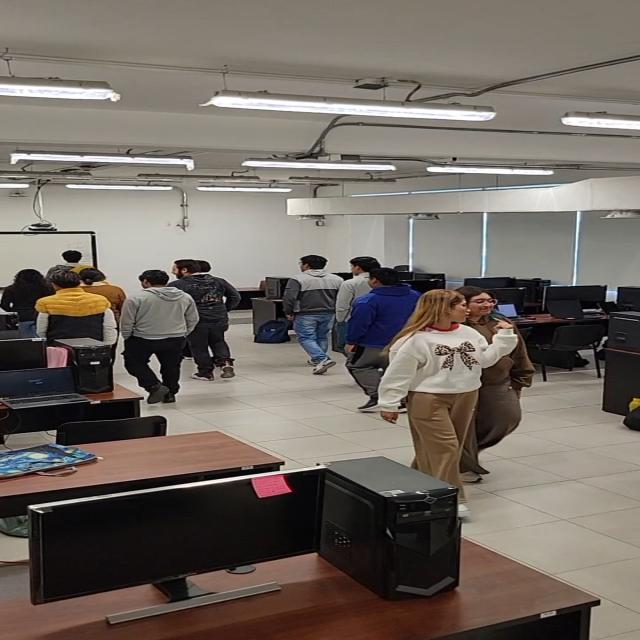Persona: (378, 288, 521, 516), (454, 286, 539, 484), (346, 267, 431, 412), (116, 270, 200, 406), (168, 257, 242, 380), (281, 254, 348, 375), (35, 268, 118, 344), (335, 255, 387, 335), (4, 267, 60, 338), (46, 249, 83, 280)
